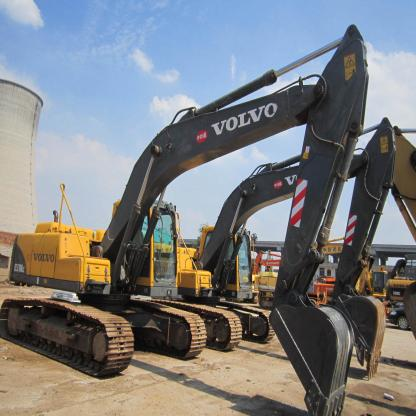excavator: (14, 26, 416, 416)
